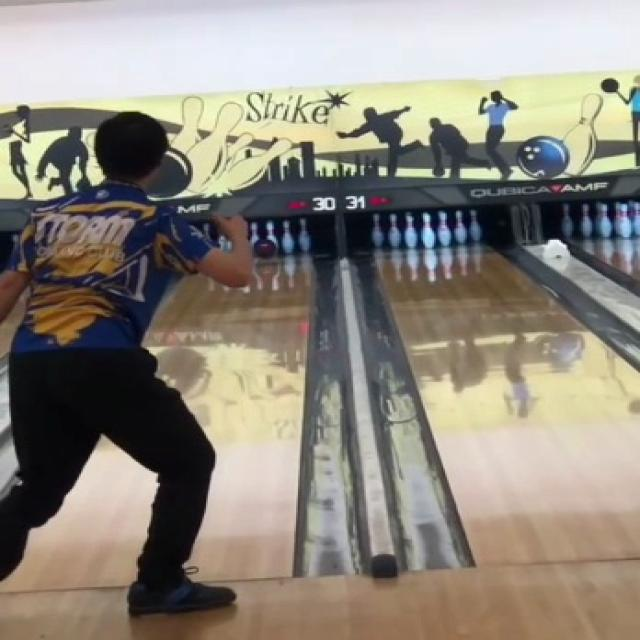alley: (145, 264, 311, 581), (2, 439, 153, 590)
balls: (256, 240, 274, 257)
bottle: (252, 217, 311, 255)
